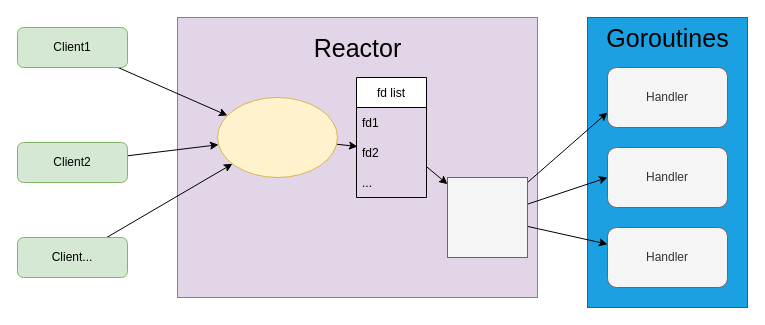
Image size: 765x325. Some labels were removed from this diagram. Here are the shapes that lost their labels. From the top down, the centre of each, then its label:
At [277,137]: "Acceptor".
At [487,217]: "Events".
